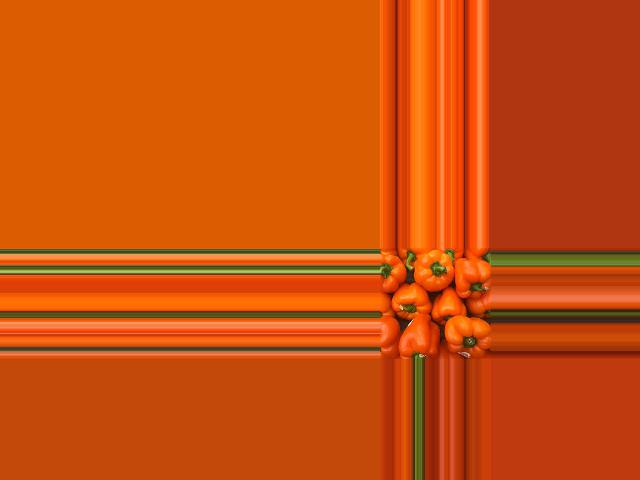bell_pepper: (381, 315, 399, 360)
